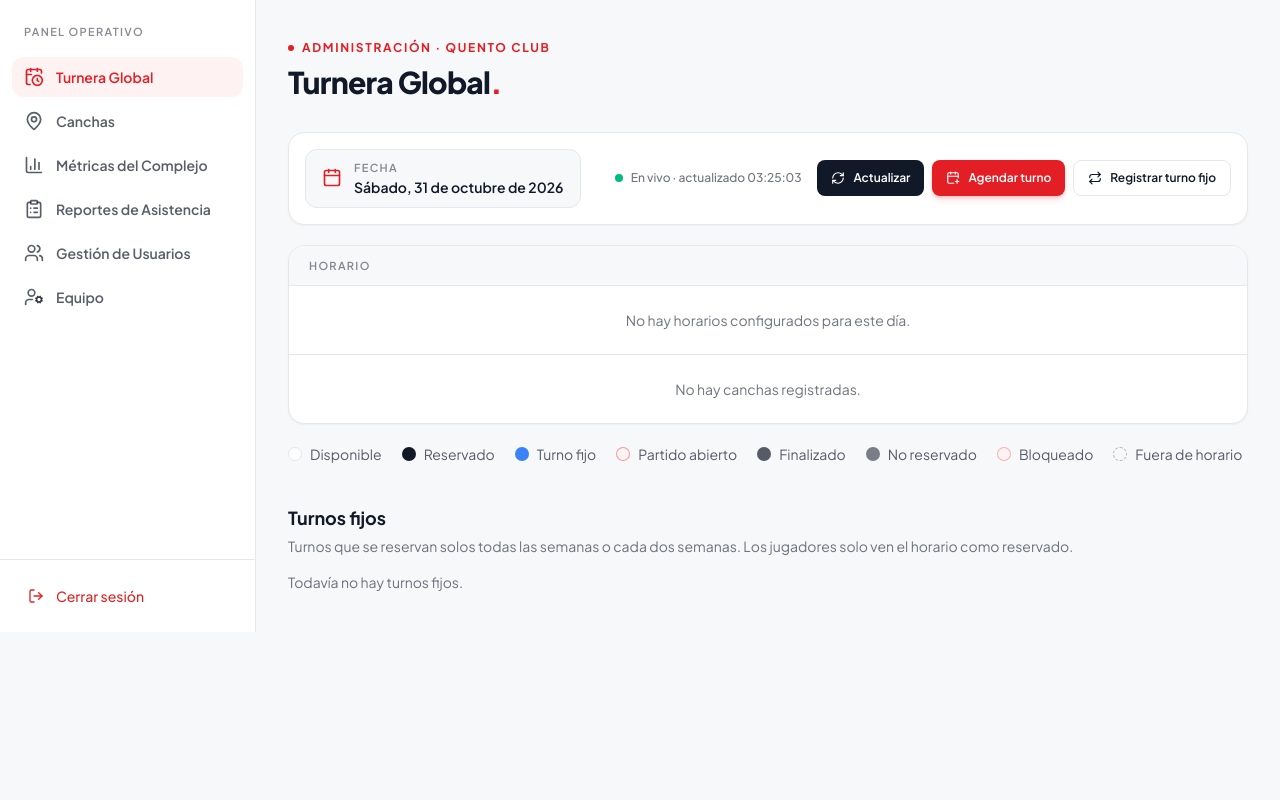
Test case: AdminPanel › al crear un turno fijo actualiza la grilla para que aparezcan sus fechas
This screenshot has width=1280, height=800.
Click the button "Registrar turno fijo" at (1152, 178), box [1073, 160, 1231, 196]
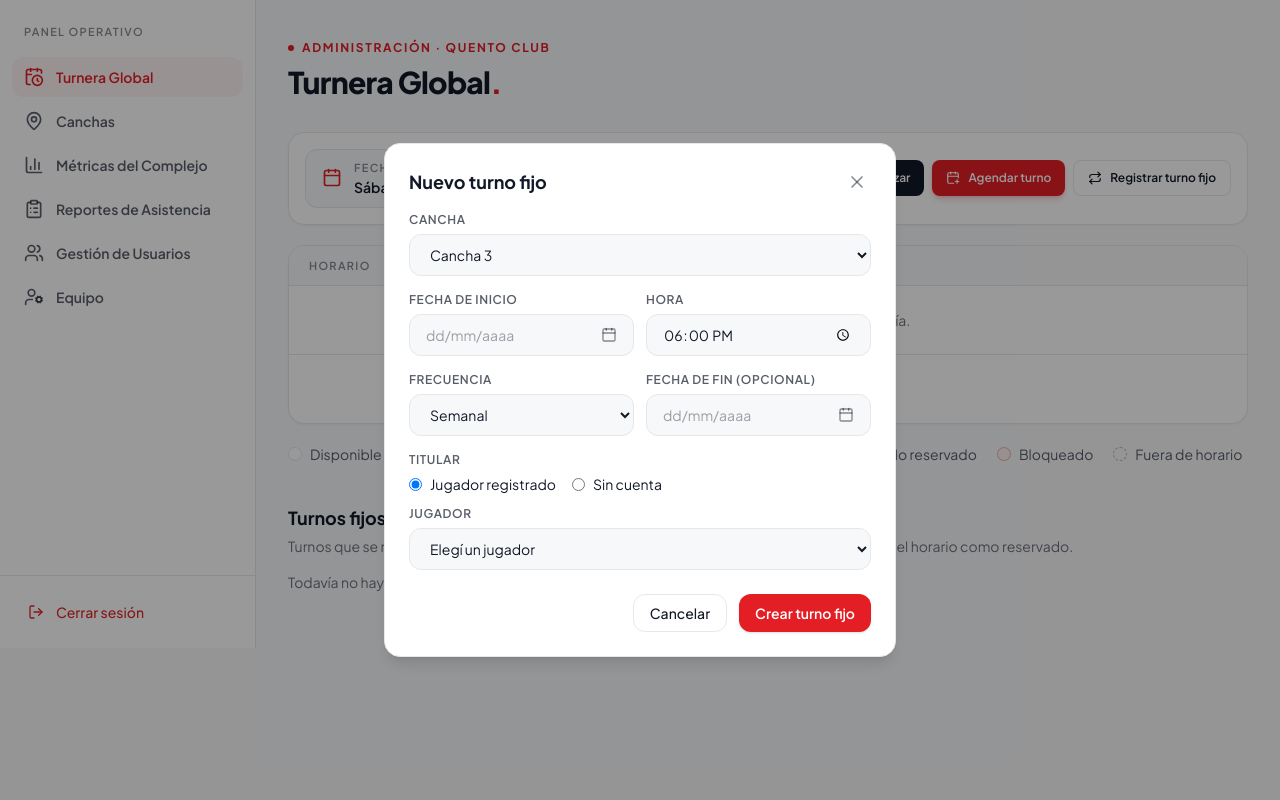
Type "2026-10-20" into the date field labelled "Fecha de inicio" at (463, 299), box [409, 292, 518, 307]
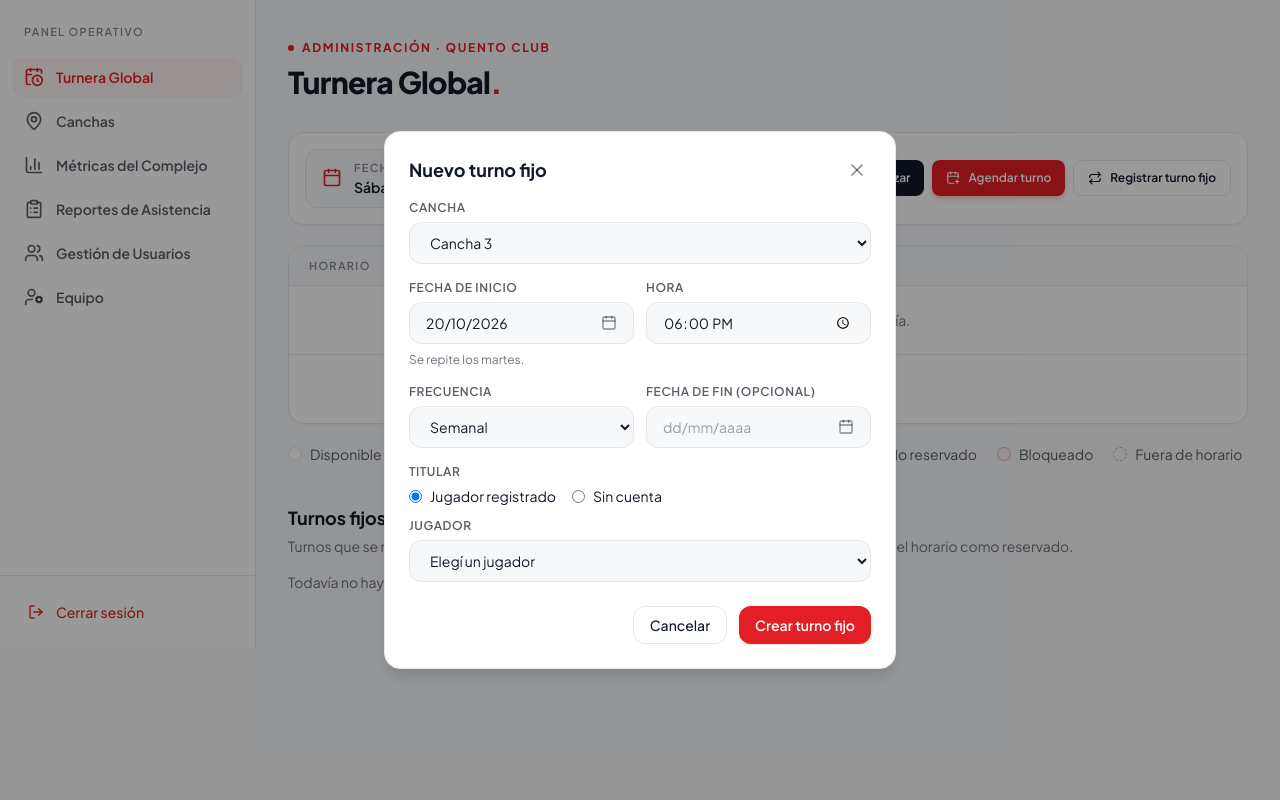
Select "Ana Gómez (2215550101)" in the dropdown labelled "Jugador" at (640, 561), box [409, 540, 871, 582]
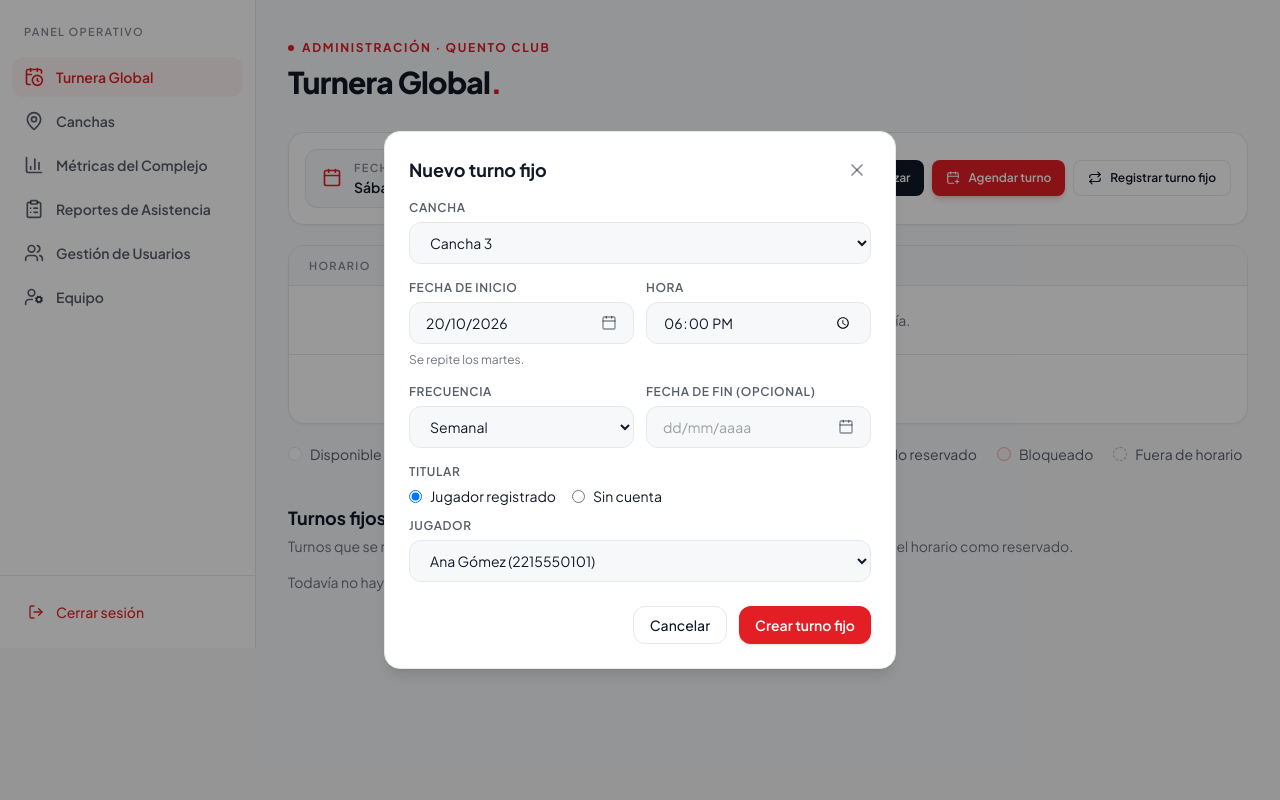
Click the button "Crear turno fijo" at (805, 625), box [739, 606, 871, 644]
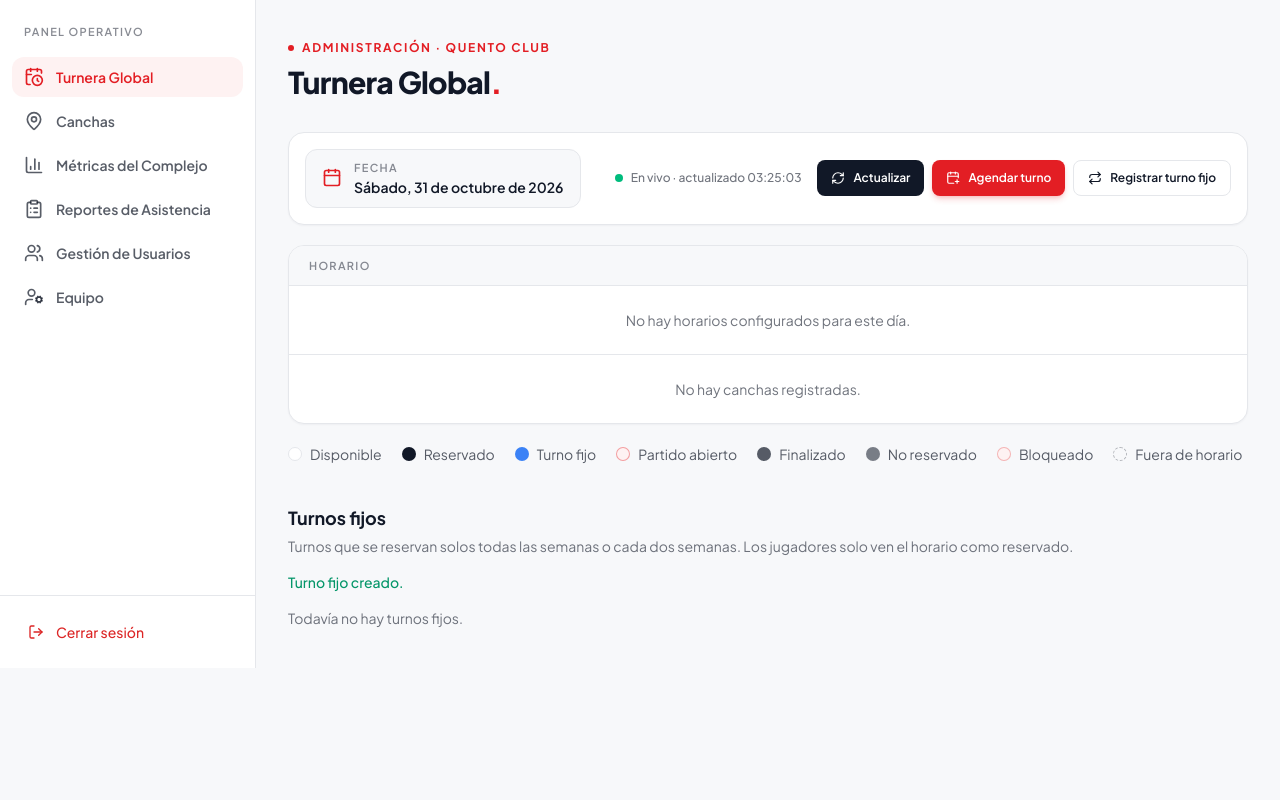
Now the text "Turno fijo creado." is shown, box [288, 573, 404, 591]
